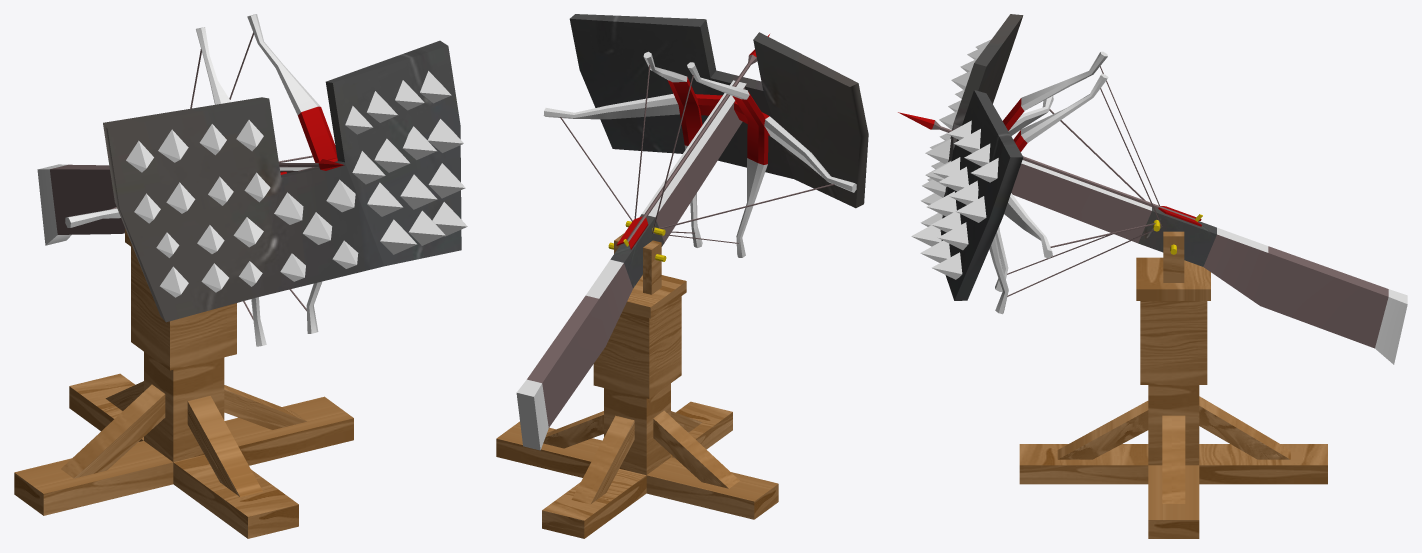
Rendered from may ban ten lv3.fbx.
3 renders of one model, left to right at view 1: azimuth 30°, elevation 25°; view 2: azimuth 150°, elevation 25°; view 3: azimuth 270°, elevation 25°, orthographic. The views are drawn at different scales.
Visible parts, largest first — view 1: may_ban_ten_lv3; view 2: may_ban_ten_lv3; view 3: may_ban_ten_lv3.
Boxes of the visible parts, bbox=[...] form: may_ban_ten_lv3: bbox=[14, 14, 467, 538]; may_ban_ten_lv3: bbox=[496, 14, 868, 538]; may_ban_ten_lv3: bbox=[898, 14, 1407, 538].
Bounding box in the file's own units: 6.12 × 7.48 × 8.42.
6 materials, 1 textured.
